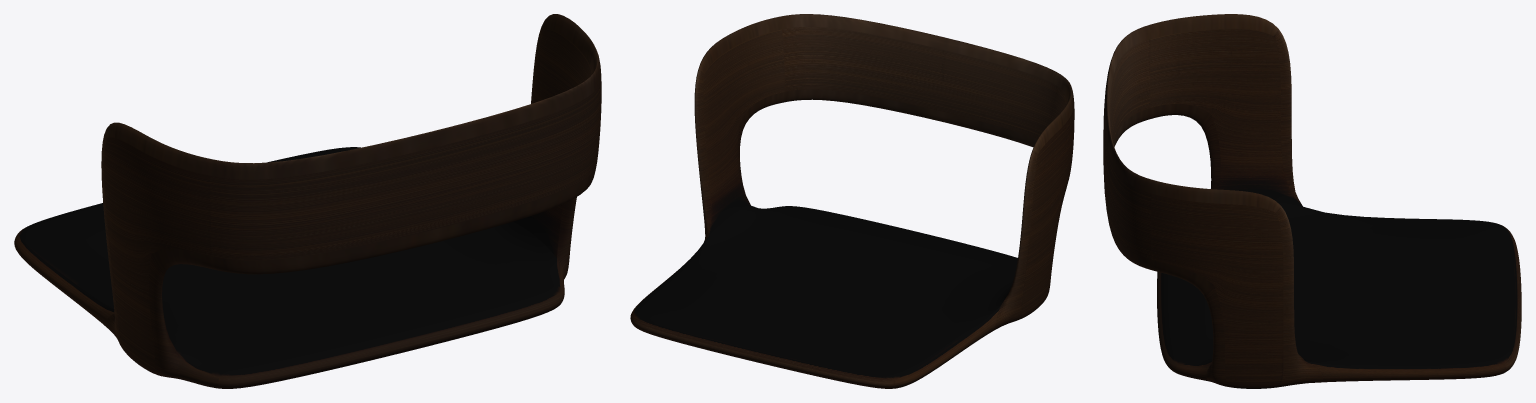
3 renders of one model, left to right at view 1: azimuth 30°, elevation 25°; view 2: azimuth 150°, elevation 25°; view 3: azimuth 270°, elevation 25°, orthographic. The views are drawn at different scales.
Parts seen in each view (by area): view 1: Room; view 2: Room; view 3: Room.
Part boxes in pixels (x1,y1,x2,y2): Room: (14, 14, 601, 388); Room: (630, 14, 1074, 388); Room: (1103, 14, 1521, 388).
Bounding box in the file's own units: 5 × 2.68 × 4.9.
Materials: 1 (1 with a texture image).
